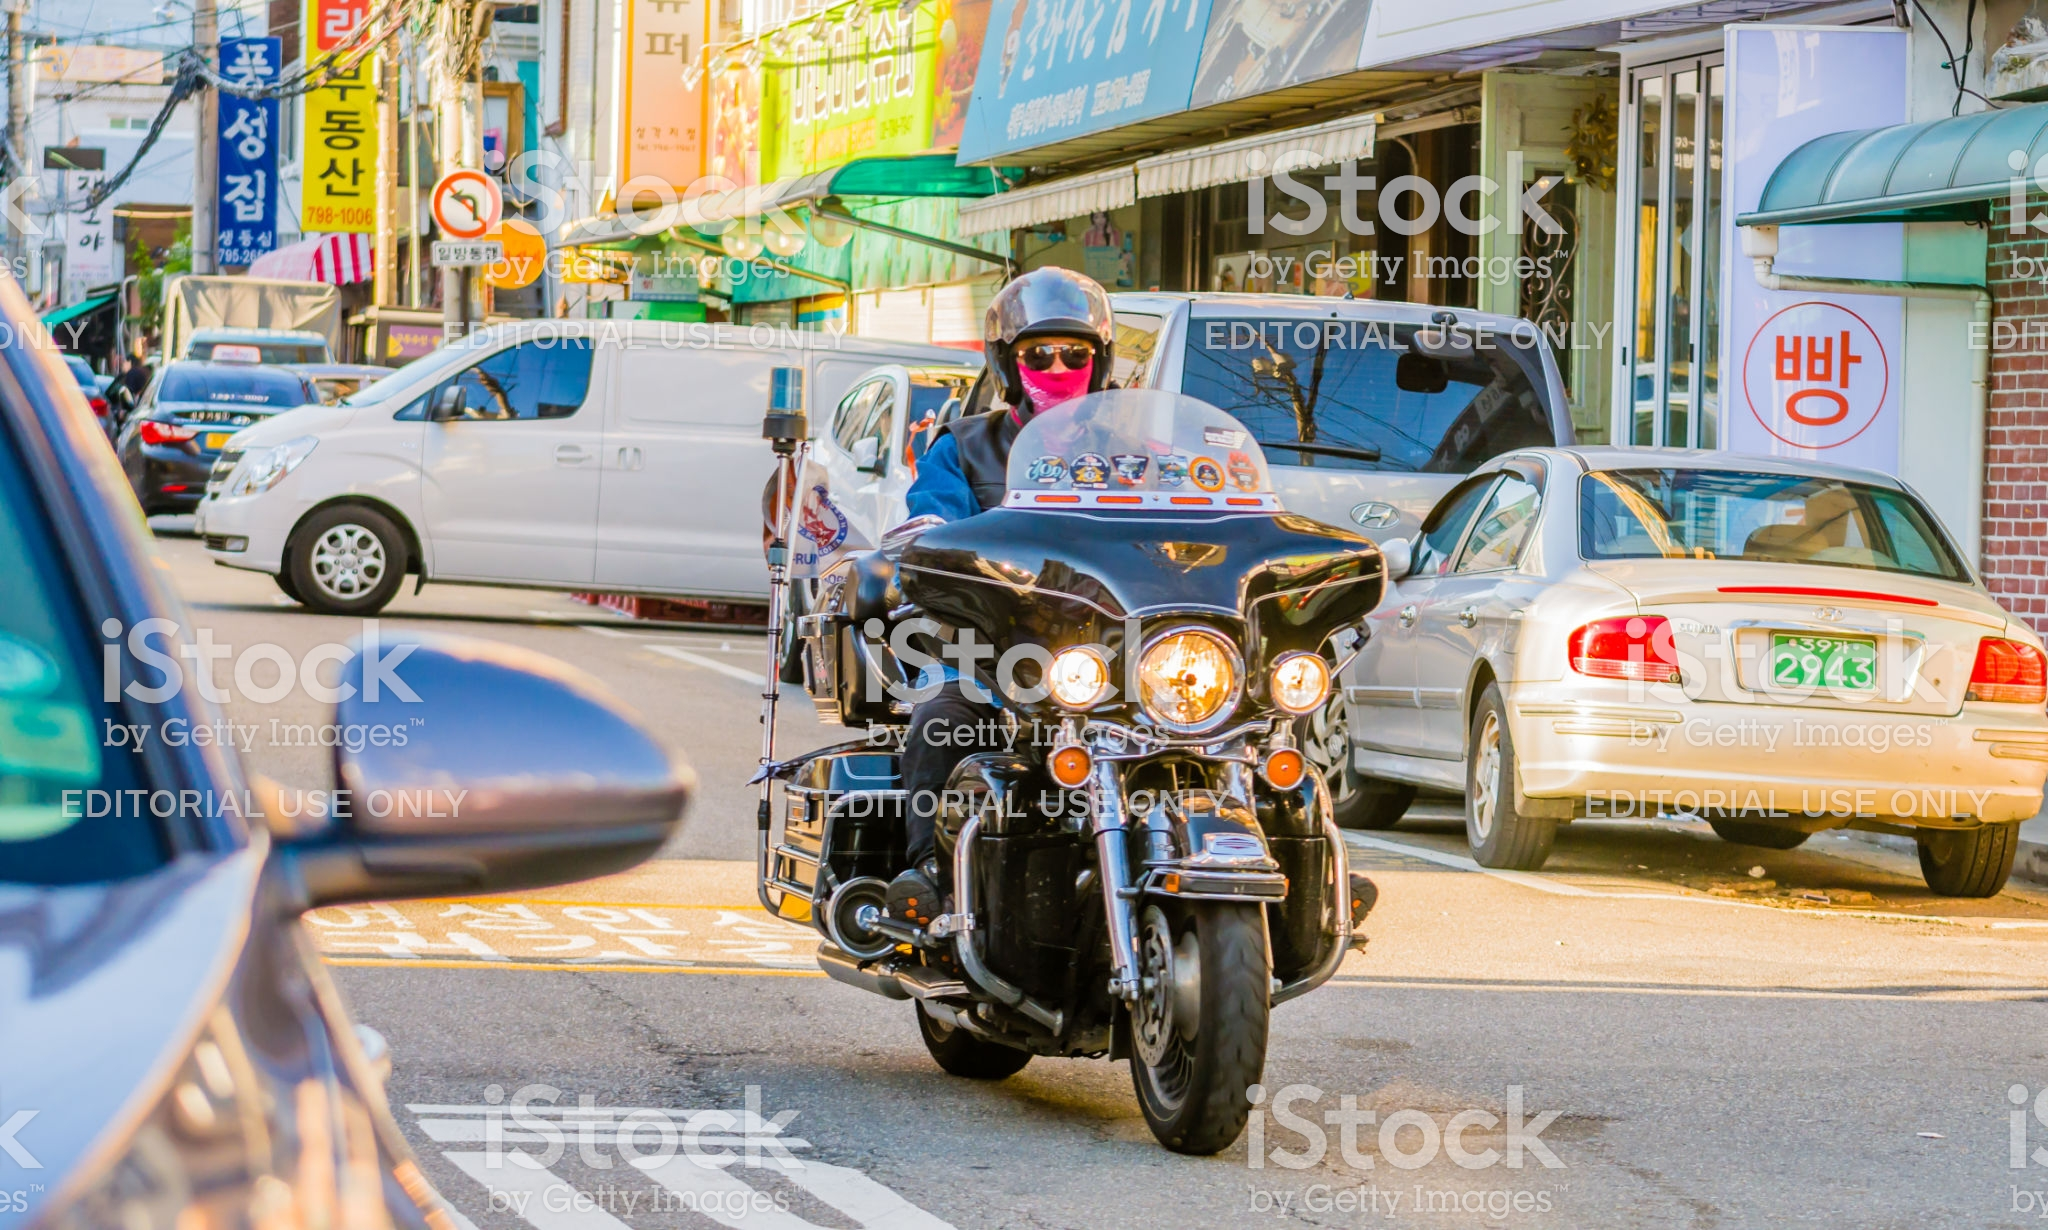helmet: (971, 271, 1121, 390)
